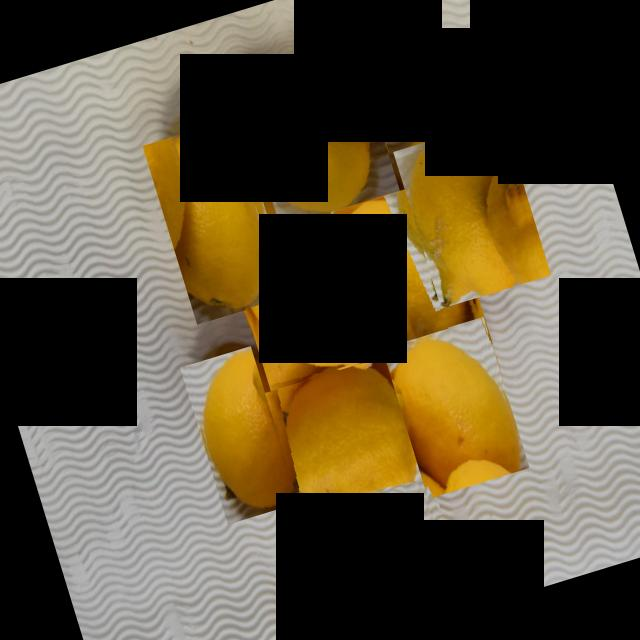lemon: (207, 150, 386, 400), (252, 352, 442, 556), (332, 177, 492, 377), (143, 116, 294, 324), (393, 118, 551, 308), (382, 316, 530, 498), (242, 54, 399, 225), (180, 346, 298, 524), (324, 478, 454, 599)
